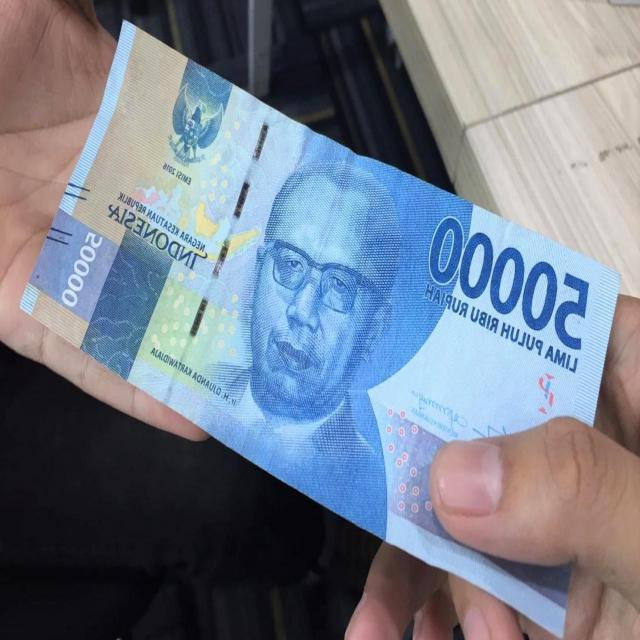lima puluh ribu rupiah: (21, 24, 618, 635), (240, 176, 400, 404), (425, 208, 590, 352)
